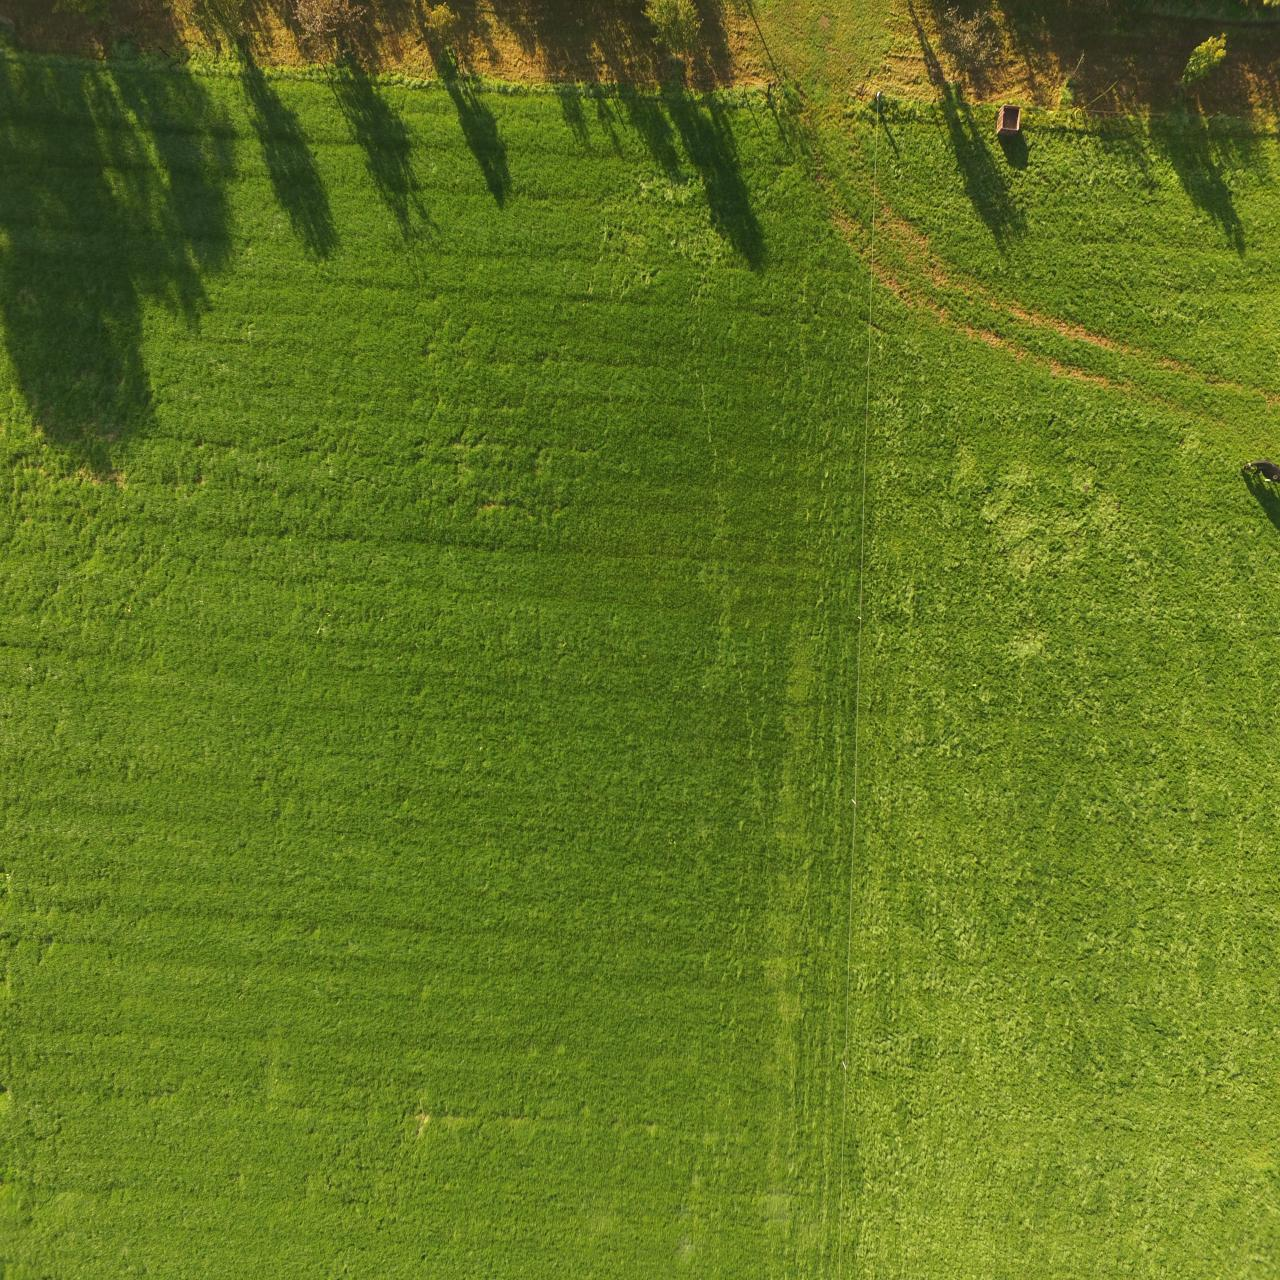cow: (1242, 455, 1280, 492)
